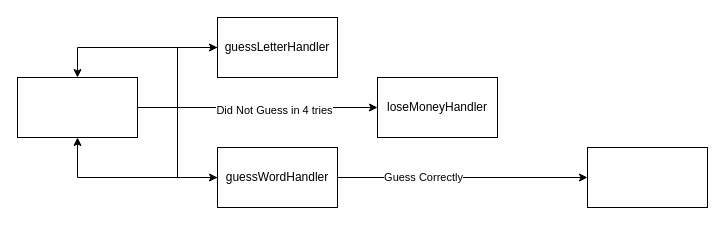
Some shapes in this 725 by 225 pixel diagram are drawn without their labels. The shapes that lost their labels are listed below. From the top down, each one's centre as x and y in pixels, then its label:
At (x=77, y=107): "robHandler".
At (x=647, y=177): "gainMoneyHandler".
